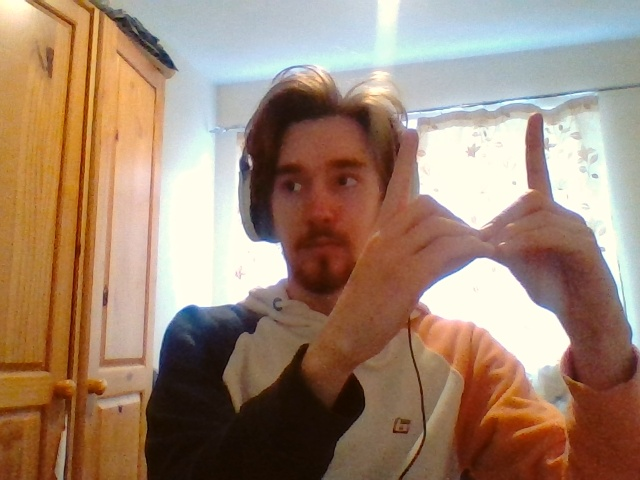meet: (389, 113, 568, 257)
